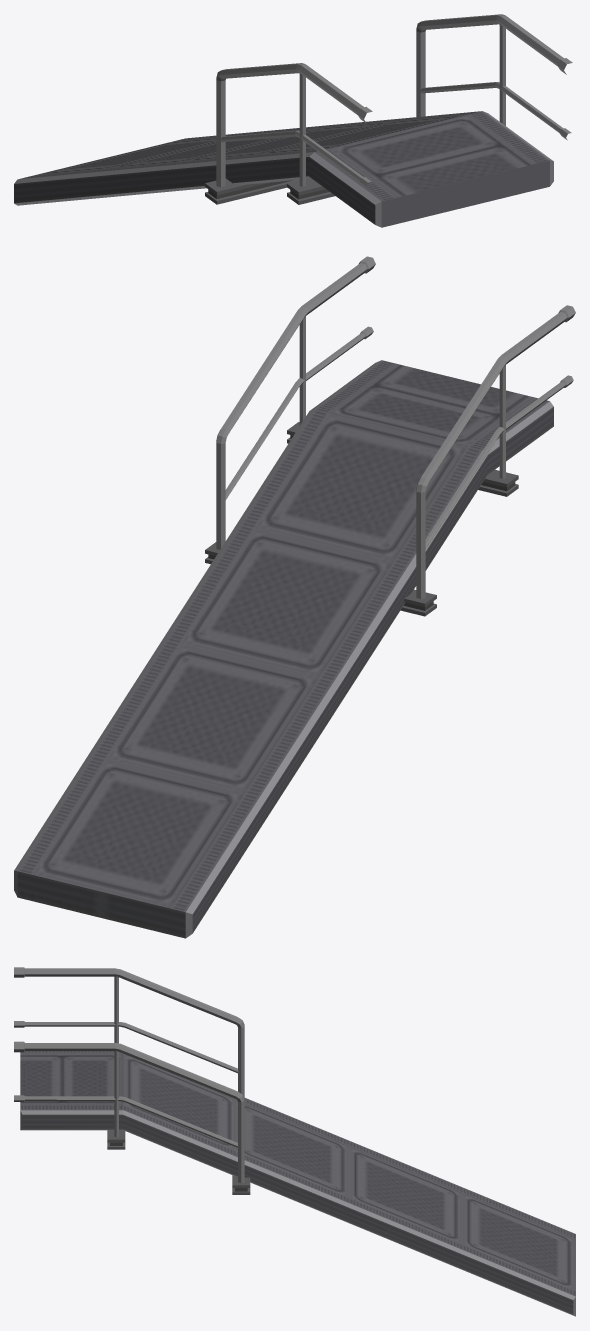
The model's file is entity66514.glb.
The picture shows the model from 3 angles, top to bottom: view 1: azimuth 30°, elevation 25°; view 2: azimuth 150°, elevation 25°; view 3: azimuth 270°, elevation 25°; orthographic projection. The views are drawn at different scales.
Parts seen in each view (by area): view 1: node_SM_Bld_Pod_Ramp_02 (5); view 2: node_SM_Bld_Pod_Ramp_02 (5); view 3: node_SM_Bld_Pod_Ramp_02 (5).
Part boxes in pixels (x1,y1,x2,y2): node_SM_Bld_Pod_Ramp_02 (5): (14, 14, 572, 227); node_SM_Bld_Pod_Ramp_02 (5): (14, 256, 575, 938); node_SM_Bld_Pod_Ramp_02 (5): (14, 967, 575, 1316).
Size of the model in its own units: 2.35 by 3.75 by 6.83.
1 material, 1 textured.
